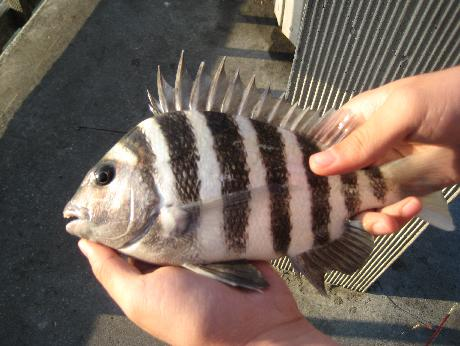fish: (60, 48, 456, 297)
